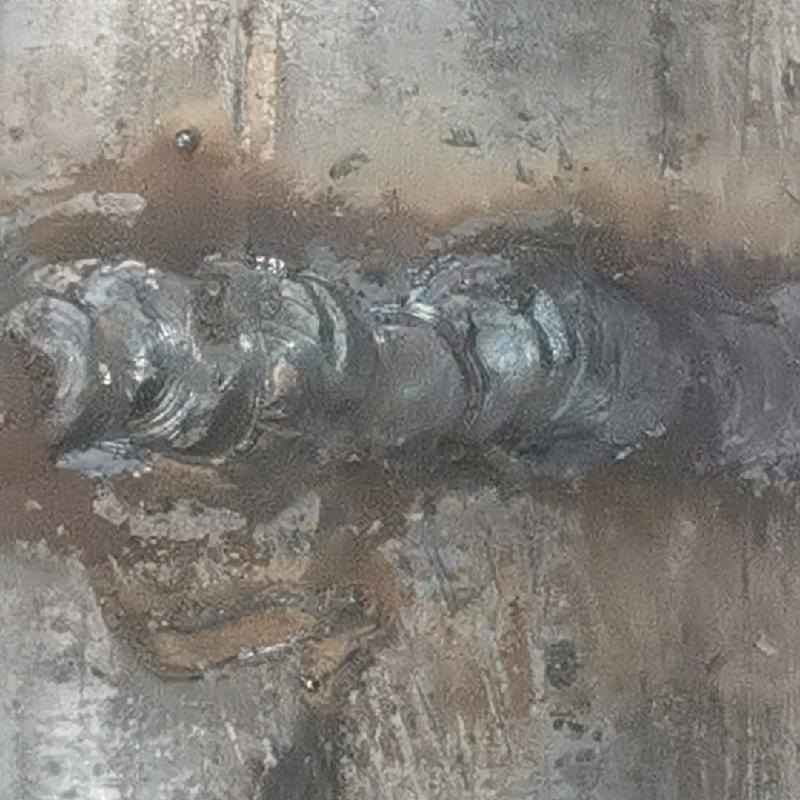good: (4, 241, 799, 487)
